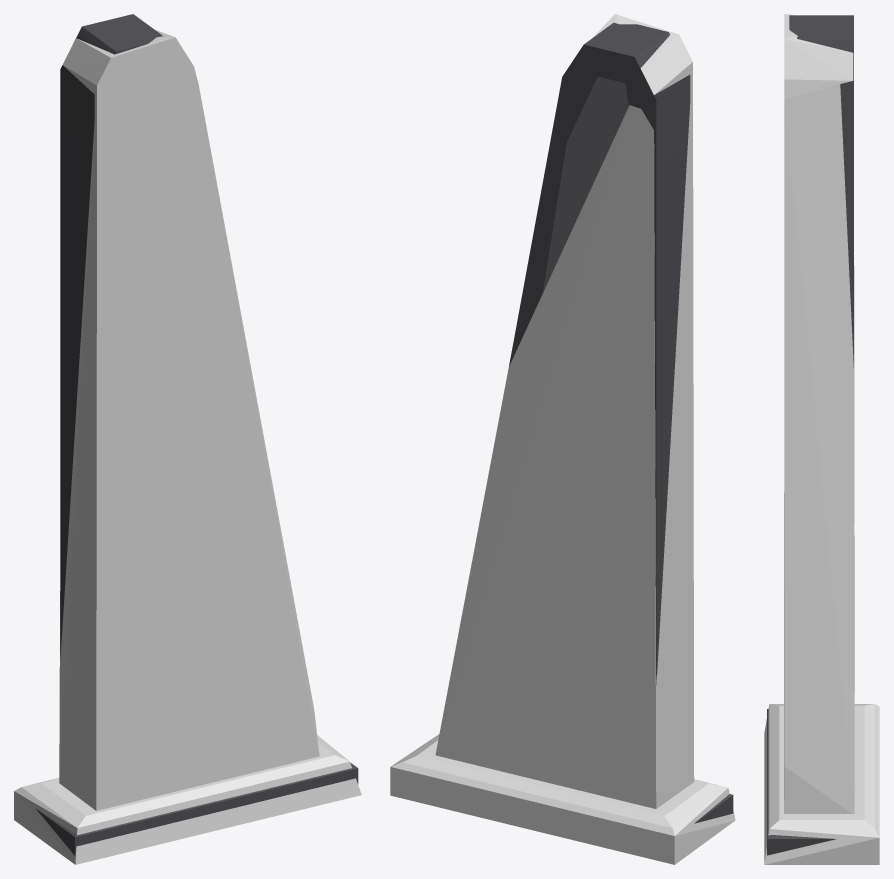
File: SM_Bld_Floor_Small_Hand_Rail_End_01.fbx
3 views of the same model, side by side, from view 1: azimuth 30°, elevation 25°; view 2: azimuth 150°, elevation 25°; view 3: azimuth 270°, elevation 25° (orthographic). The views are drawn at different scales.
Parts seen in each view (by area): view 1: SM_Bld_Floor_Small_Hand_Rail_End_01_ConvexHulls, SM_Bld_Floor_Small_Hand_Rail_End_01_LOD0; view 2: SM_Bld_Floor_Small_Hand_Rail_End_01_ConvexHulls, SM_Bld_Floor_Small_Hand_Rail_End_01_LOD0; view 3: SM_Bld_Floor_Small_Hand_Rail_End_01_ConvexHulls, SM_Bld_Floor_Small_Hand_Rail_End_01_LOD0.
Boxes of the visible parts, <box> form: SM_Bld_Floor_Small_Hand_Rail_End_01_ConvexHulls: <box>14,30,361,864</box>; SM_Bld_Floor_Small_Hand_Rail_End_01_LOD0: <box>36,14,358,855</box>; SM_Bld_Floor_Small_Hand_Rail_End_01_ConvexHulls: <box>390,14,735,864</box>; SM_Bld_Floor_Small_Hand_Rail_End_01_LOD0: <box>509,22,733,823</box>; SM_Bld_Floor_Small_Hand_Rail_End_01_ConvexHulls: <box>764,14,879,864</box>; SM_Bld_Floor_Small_Hand_Rail_End_01_LOD0: <box>767,15,853,855</box>.
Bounding box in the file's own units: 17.85 × 48.11 × 127.
1 material, 1 textured.
